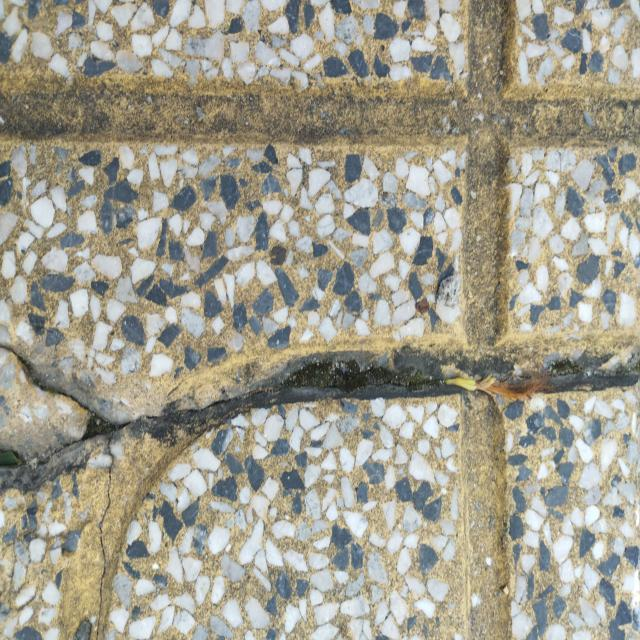horizontal crack: (81, 358, 639, 439)
